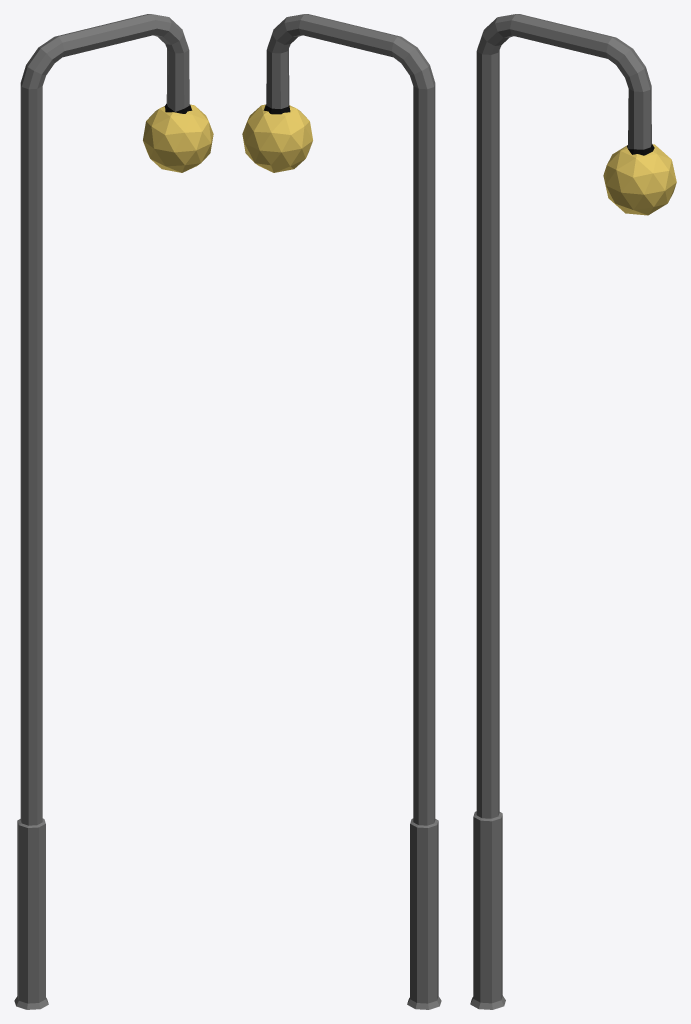
File: SM_Factory_Floor_lamp.glb
3 views of the same model, side by side, from view 1: azimuth 30°, elevation 25°; view 2: azimuth 150°, elevation 25°; view 3: azimuth 330°, elevation 25° (orthographic). The views are drawn at different scales.
Visible parts, largest first — view 1: SM_Factory_Floor_lamp; view 2: SM_Factory_Floor_lamp; view 3: SM_Factory_Floor_lamp.
Part boxes in pixels (x1,y1,x2,y2): SM_Factory_Floor_lamp: (14,14,213,1009); SM_Factory_Floor_lamp: (242,14,441,1009); SM_Factory_Floor_lamp: (470,14,676,1009).
Size of the model in its own units: 0.8559 by 4.09 by 0.2797.
Materials: 1 (1 with a texture image).
